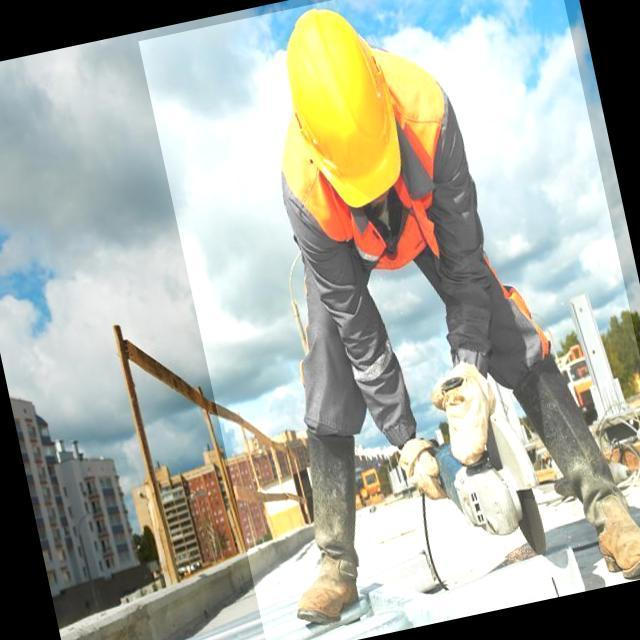Gloves: (423, 357, 509, 471), (390, 434, 449, 510)
Helmet: (272, 0, 413, 216)
Person: (247, 7, 636, 640)
Safety Boot: (504, 336, 640, 596), (258, 421, 393, 632)
Safety Vest: (261, 37, 478, 291)
